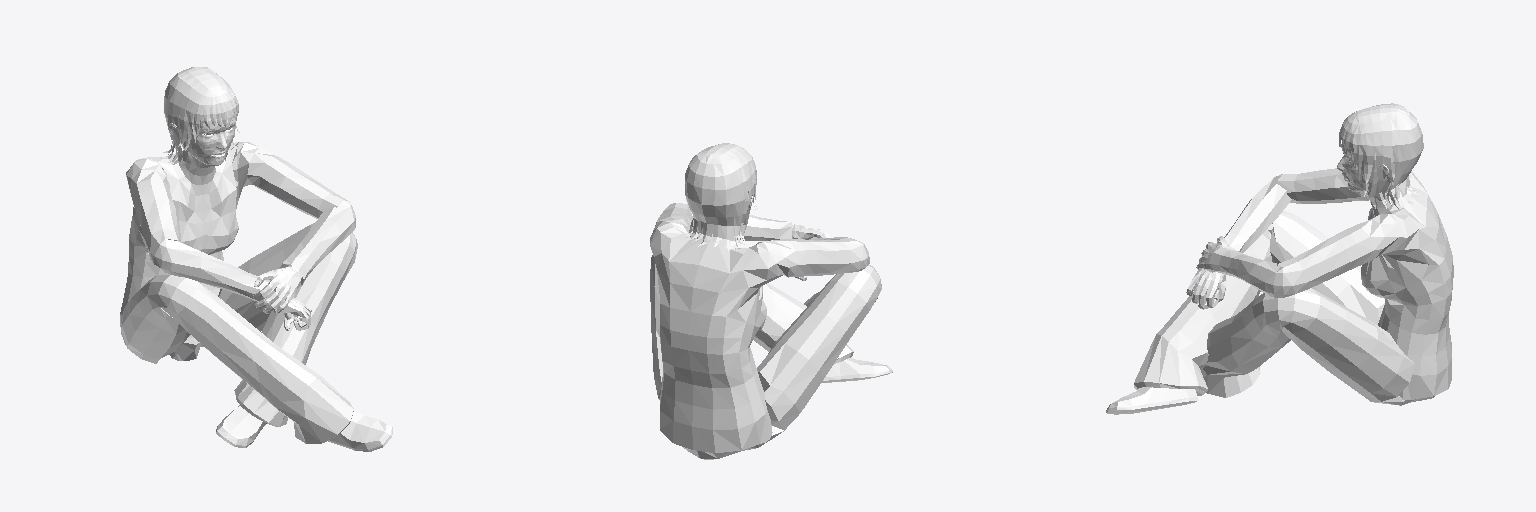
The model's file is sitFemale01.obj.
The picture shows the model from 3 angles: view 1: azimuth 30°, elevation 25°; view 2: azimuth 150°, elevation 25°; view 3: azimuth 270°, elevation 25°; orthographic projection.
Parts seen in each view (by area): view 1: obj1221polySurface1161_1, obj1221polySurface1161_6364_3, obj1221polySurface1161_5001_2; view 2: obj1221polySurface1161_1, obj1221polySurface1161_6364_3; view 3: obj1221polySurface1161_1, obj1221polySurface1161_6364_3, obj1221polySurface1161_5001_2.
Part boxes in pixels (bbox=[...]): obj1221polySurface1161_1: bbox=[120, 142, 392, 451]; obj1221polySurface1161_6364_3: bbox=[161, 67, 239, 165]; obj1221polySurface1161_5001_2: bbox=[168, 112, 235, 167]; obj1221polySurface1161_1: bbox=[650, 203, 892, 459]; obj1221polySurface1161_6364_3: bbox=[685, 143, 757, 250]; obj1221polySurface1161_1: bbox=[1106, 168, 1453, 414]; obj1221polySurface1161_6364_3: bbox=[1339, 103, 1423, 210]; obj1221polySurface1161_5001_2: bbox=[1337, 133, 1393, 197].
Size of the model in its own units: 56.2 by 75.8 by 81.7.